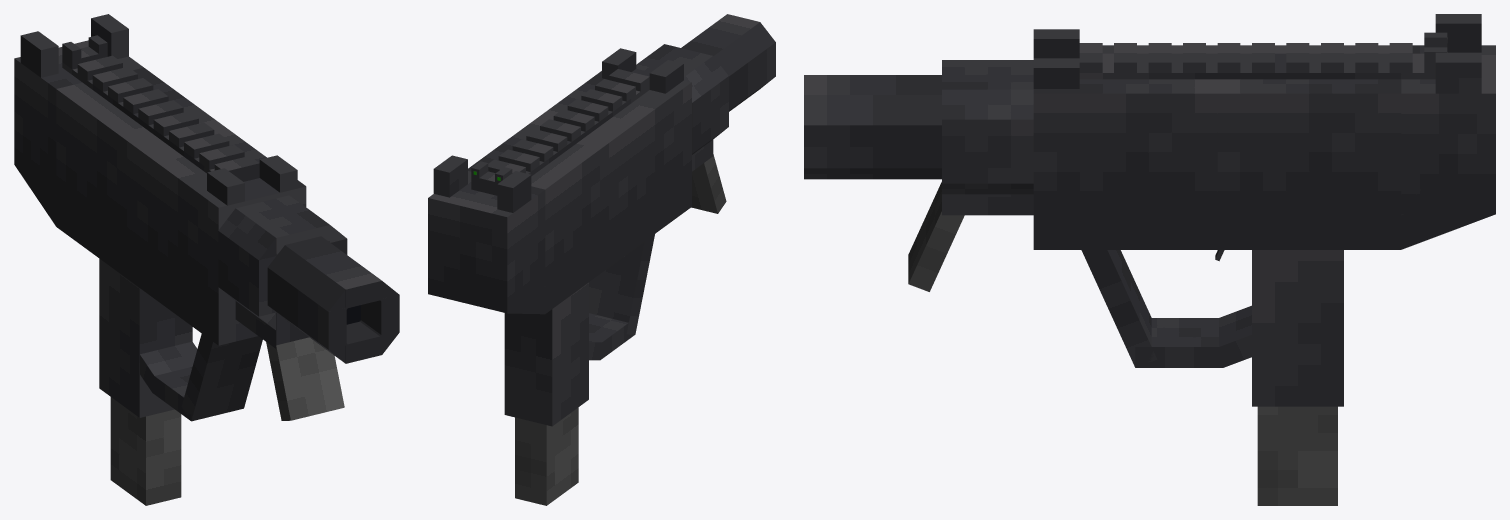
File: submachine_gun.gltf
The picture shows the model from 3 angles, left to right: view 1: azimuth 30°, elevation 25°; view 2: azimuth 150°, elevation 25°; view 3: azimuth 270°, elevation 25°; orthographic projection. The views are drawn at different scales.
Parts seen in each view (by area): view 1: body (×19), muzzle (×9), handle (×4), mag, reticle; view 2: body (×18), handle (×3), muzzle (×7), mag; view 3: body (×9), muzzle (×9), handle (×4), mag.
Part boxes in pixels (bbox=[...]): body (×19): bbox=[14, 14, 306, 345]; muzzle (×9): bbox=[218, 195, 399, 420]; handle (×4): bbox=[99, 258, 262, 421]; mag: bbox=[110, 397, 181, 505]; reticle: bbox=[62, 46, 107, 69]; body (×18): bbox=[428, 48, 691, 314]; handle (×3): bbox=[504, 234, 654, 426]; muzzle (×7): bbox=[636, 14, 775, 213]; mag: bbox=[515, 407, 578, 505]; body (×9): bbox=[1033, 14, 1495, 249]; muzzle (×9): bbox=[804, 60, 1033, 291]; handle (×4): bbox=[1081, 250, 1343, 406]; mag: bbox=[1257, 406, 1337, 505].
Bounding box in the file's own units: 0.1575 × 0.6875 × 0.9413.
4 materials, 4 textured.
